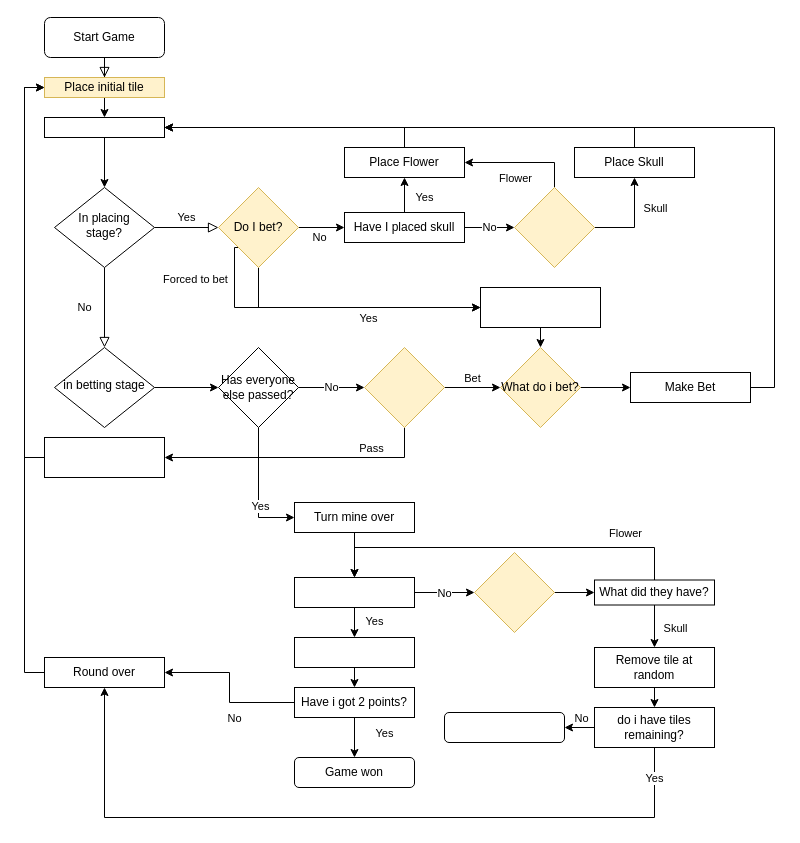
Image size: 800x843. Some labels were removed from this diagram. The centre of each missing label's shape, as x and y in pixels:
"Do i bet or pass" goes at (x=404, y=387).
"Do i place Skull of flower?" goes at (x=554, y=227).
"Give my self a point" goes at (x=354, y=652).
"Have i reached my bet" goes at (x=354, y=592).
"Transition to betting stage" goes at (x=540, y=307).
"Wait for my turn" goes at (x=104, y=127).
"Wait for round to end" goes at (x=104, y=457).
"Who do i pick" goes at (x=514, y=592).
"You're out of the game" goes at (x=504, y=727).
